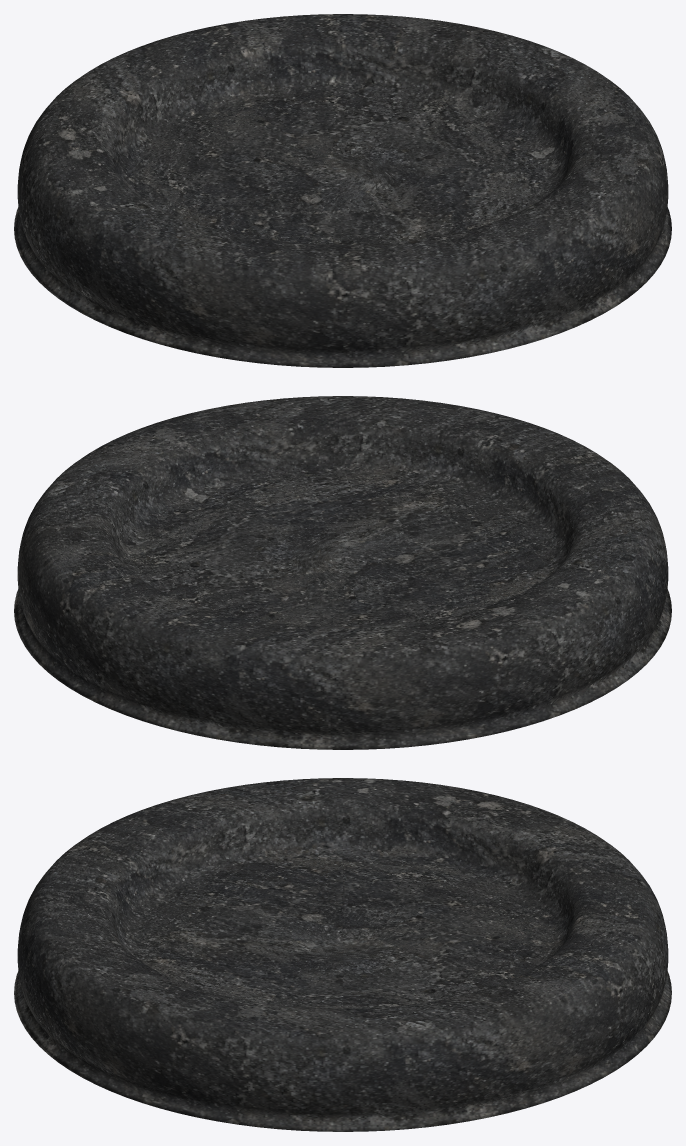
Rendered from tzaar-tott-black.glb.
3 renders of one model, top to bottom at view 1: azimuth 30°, elevation 25°; view 2: azimuth 150°, elevation 25°; view 3: azimuth 270°, elevation 25°, orthographic.
Parts seen in each view (by area): view 1: tzaar-tott-black; view 2: tzaar-tott-black; view 3: tzaar-tott-black.
Boxes of the visible parts, left/top/right/bottom form: tzaar-tott-black: left=14, top=14, right=671, bottom=367; tzaar-tott-black: left=14, top=396, right=671, bottom=749; tzaar-tott-black: left=14, top=778, right=671, bottom=1131.
Bounding box in the file's own units: 0.0283 × 0.00435 × 0.0283.
Materials: 1 (1 with a texture image).
